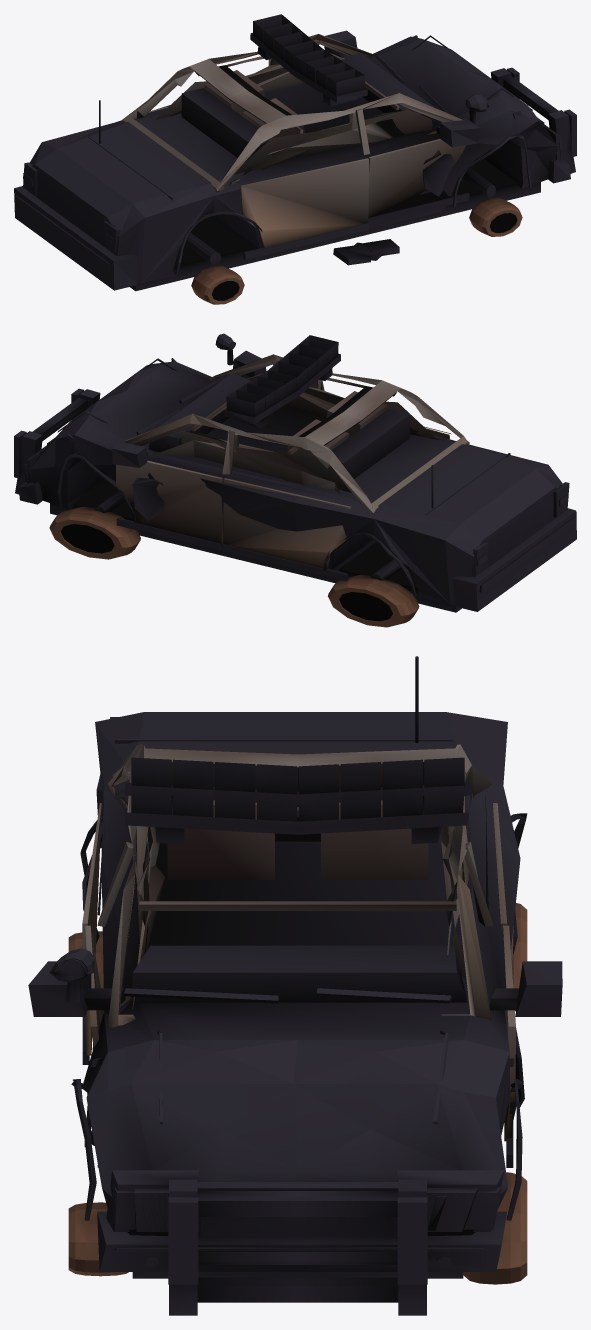
File: veh.police-sedan.burned.lod1.glb
3 views of the same model, one above another, from view 1: azimuth 30°, elevation 25°; view 2: azimuth 150°, elevation 25°; view 3: azimuth 270°, elevation 25° (orthographic). The views are drawn at different scales.
Visible parts, largest first — view 1: body, wheelRL, wheelFL; view 2: body, wheelRR, wheelFR; view 3: body, wheelFR, wheelFL, wheelRR.
Part boxes in pixels (x1=…): body: x1=14, y1=14, x2=576, y2=291; wheelRL: x1=191, y1=266, x2=244, y2=304; wheelFL: x1=469, y1=198, x2=522, y2=236; body: x1=14, y1=333, x2=576, y2=612; wheelRR: x1=328, y1=574, x2=419, y2=627; wheelFR: x1=49, y1=507, x2=140, y2=559; body: x1=28, y1=656, x2=562, y2=1315; wheelFR: x1=463, y1=1172, x2=527, y2=1284; wheelFL: x1=68, y1=1202, x2=128, y2=1276; wheelRR: x1=513, y1=903, x2=527, y2=1011.
Size of the model in its own units: 5.05 by 1.82 by 2.42.
